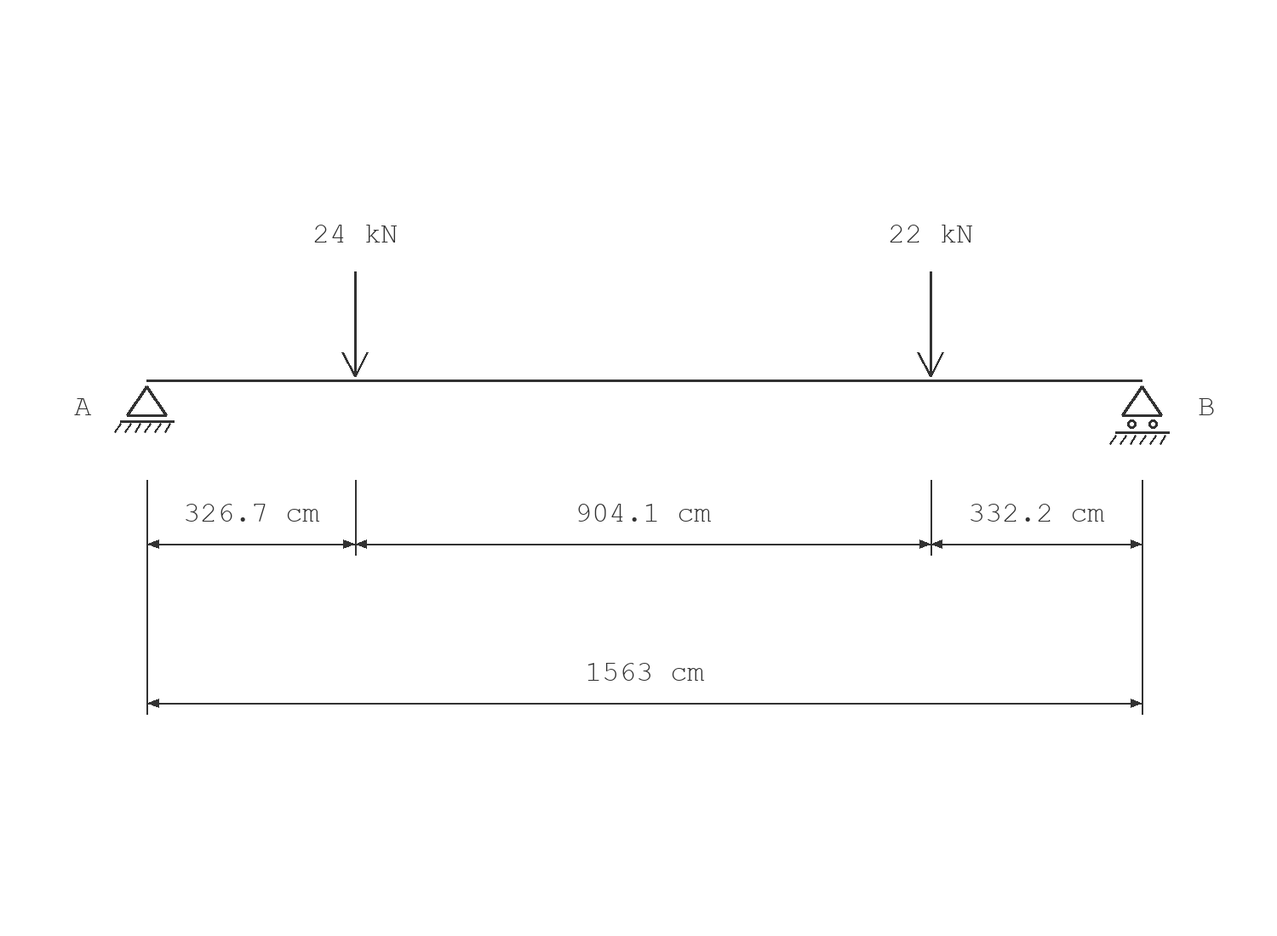pin_support: (114, 385, 175, 433)
point_load: (341, 271, 369, 377), (917, 271, 944, 377)
roller_support: (1109, 385, 1170, 445)
